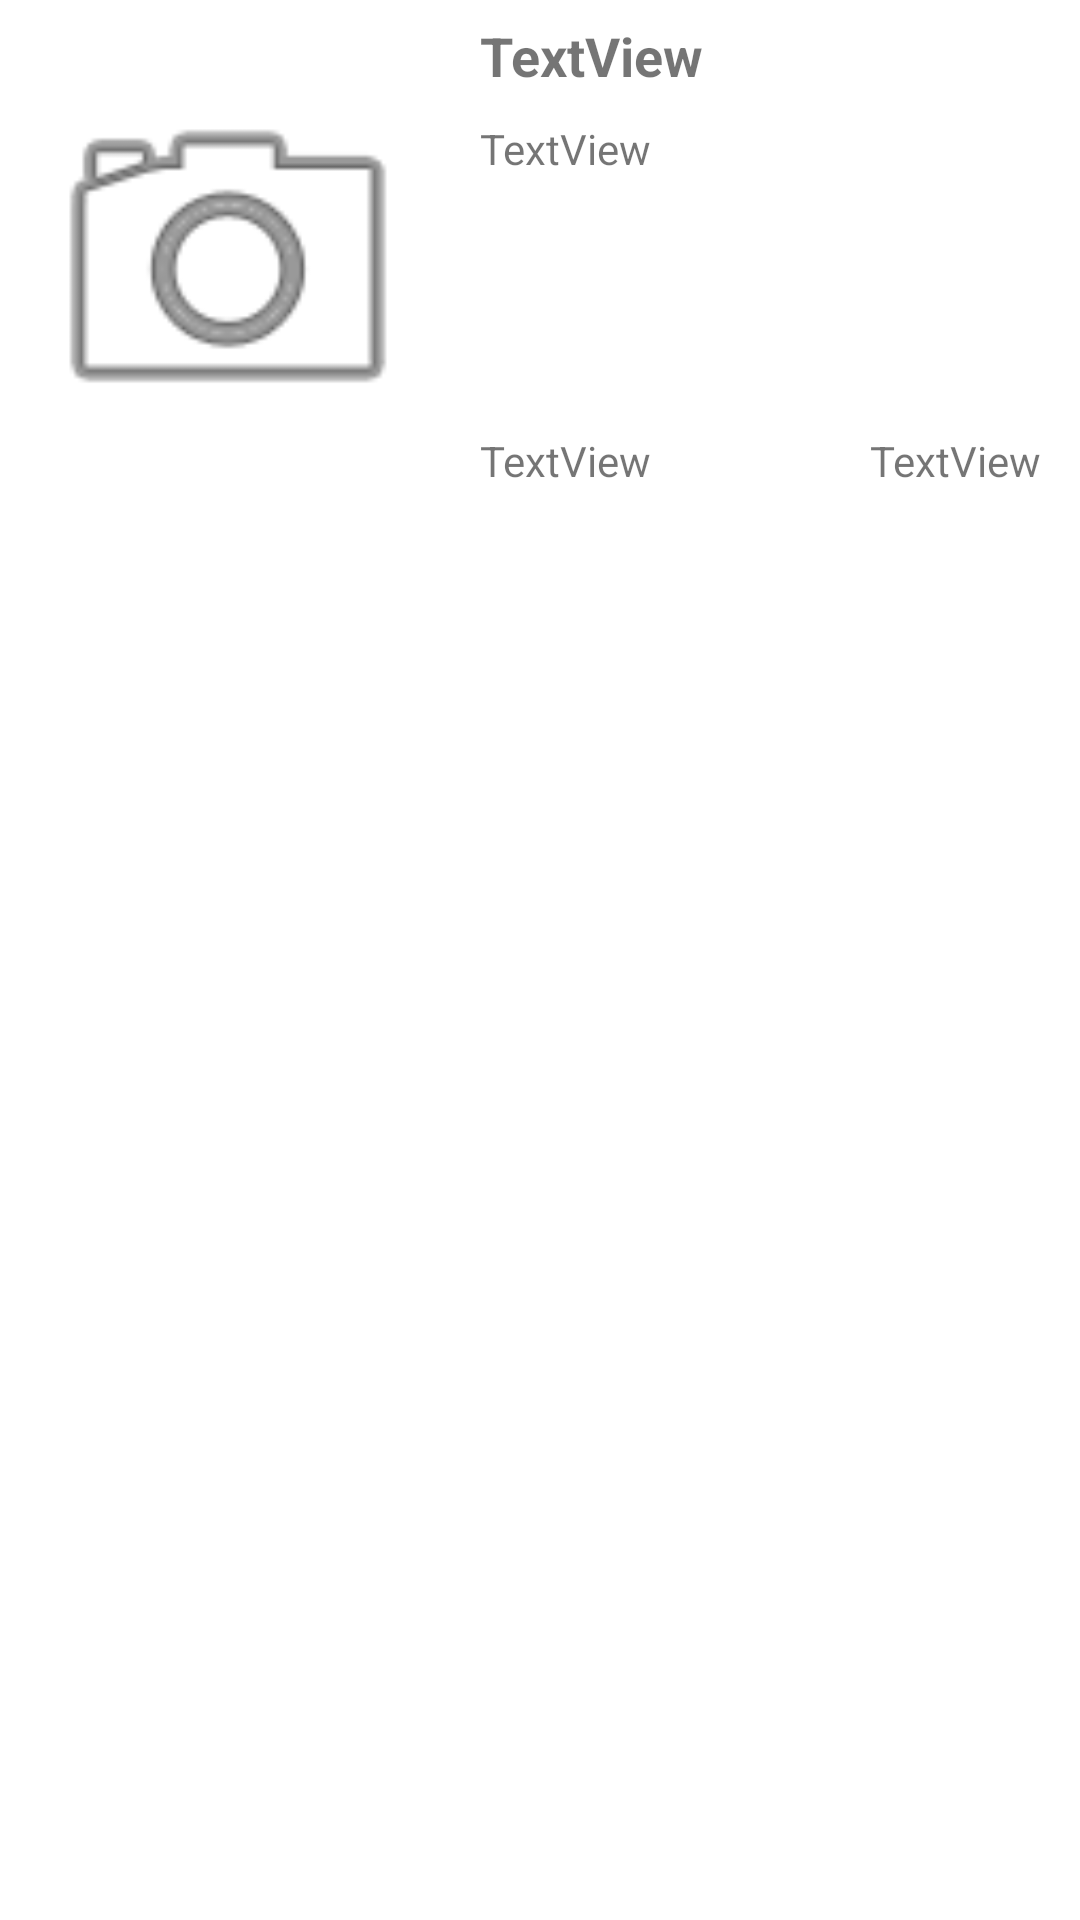

Icons on this 1080w x 1920h Android screen, each with its box as (x1, y1, x2, y2):
camera: (70, 130, 386, 382)
